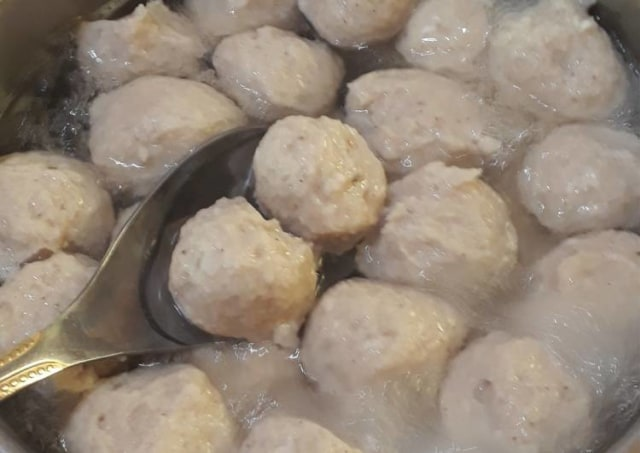bakso: (11, 10, 640, 446)
